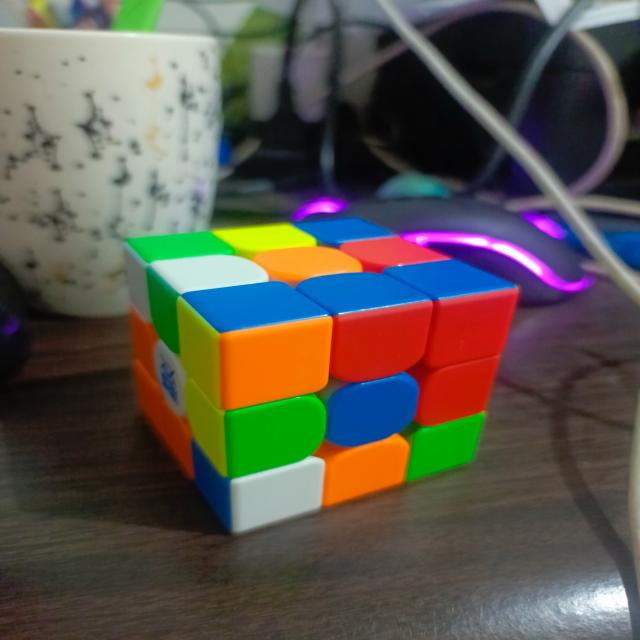rubik: (121, 215, 521, 534)
